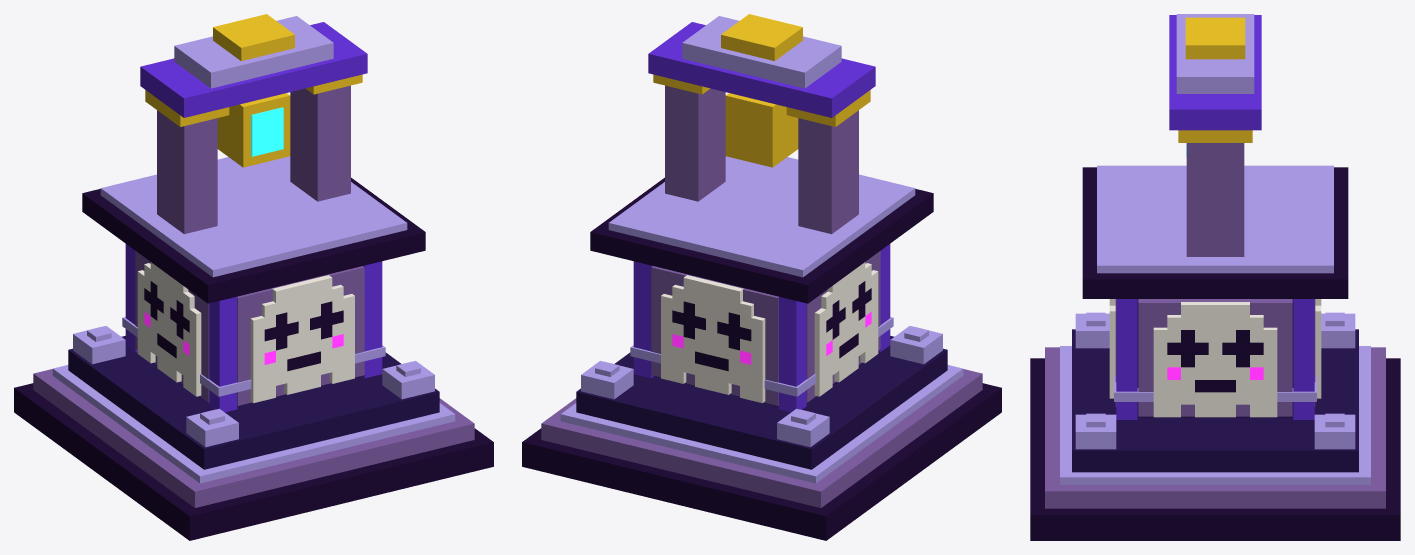
Rendered from landmark-tier-1.glb.
The picture shows the model from 3 angles, left to right: view 1: azimuth 30°, elevation 25°; view 2: azimuth 150°, elevation 25°; view 3: azimuth 270°, elevation 25°; orthographic projection. The views are drawn at different scales.
Parts seen in each view (by area): view 1: base-ink, base-lavender, base-deep, base-stone, base-cream, crown-stone, crown-purple, crown-gold, base-purple, crown-lavender, crown-teal; view 2: base-ink, base-lavender, base-deep, base-stone, base-cream, crown-stone, crown-gold, crown-purple, base-purple, crown-lavender; view 3: base-lavender, base-ink, base-deep, base-stone, base-cream, crown-stone, base-purple, crown-purple, crown-lavender, crown-gold.
Boxes of the visible parts, <box> form: base-ink: <box>14,177,493,540</box>; base-lavender: <box>52,156,455,483</box>; base-deep: <box>68,336,439,469</box>; base-stone: <box>33,251,474,507</box>; base-cream: <box>137,262,354,403</box>; crown-stone: <box>157,85,350,234</box>; crown-purple: <box>140,22,367,117</box>; crown-gold: <box>145,14,362,167</box>; base-purple: <box>125,244,382,412</box>; crown-lavender: <box>174,16,333,88</box>; crown-teal: <box>251,107,283,156</box>; base-ink: <box>522,177,1001,540</box>; base-lavender: <box>560,156,963,483</box>; base-deep: <box>576,336,947,469</box>; base-stone: <box>541,251,982,507</box>; base-cream: <box>661,262,878,403</box>; crown-stone: <box>665,85,858,234</box>; crown-gold: <box>653,14,870,167</box>; crown-purple: <box>648,22,875,117</box>; base-purple: <box>633,244,890,412</box>; crown-lavender: <box>682,16,841,88</box>; base-lavender: <box>1060,165,1370,484</box>; base-ink: <box>1030,167,1400,540</box>; base-deep: <box>1072,299,1358,472</box>; base-stone: <box>1045,299,1385,508</box>; base-cream: <box>1109,299,1321,417</box>; crown-stone: <box>1186,143,1244,256</box>; base-purple: <box>1116,299,1314,419</box>; crown-purple: <box>1169,15,1261,130</box>; crown-lavender: <box>1176,14,1254,93</box>; crown-gold: <box>1178,17,1252,142</box>.
Bounding box in the file's own units: 3.1 × 3.98 × 3.1.
